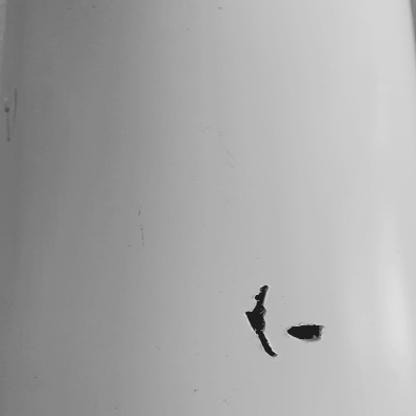kongdong: (242, 285, 281, 357), (285, 321, 323, 345)
